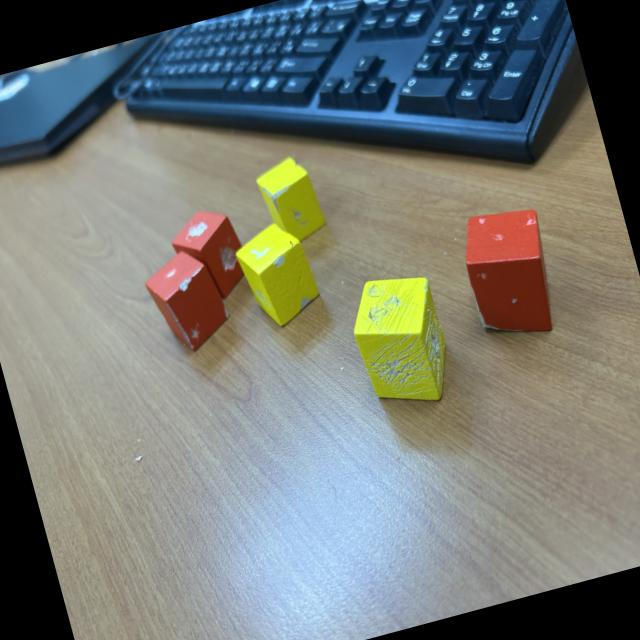broken: (340, 262, 462, 418), (450, 197, 568, 348), (230, 214, 326, 334), (138, 243, 236, 358), (164, 200, 255, 311), (249, 148, 330, 250)
